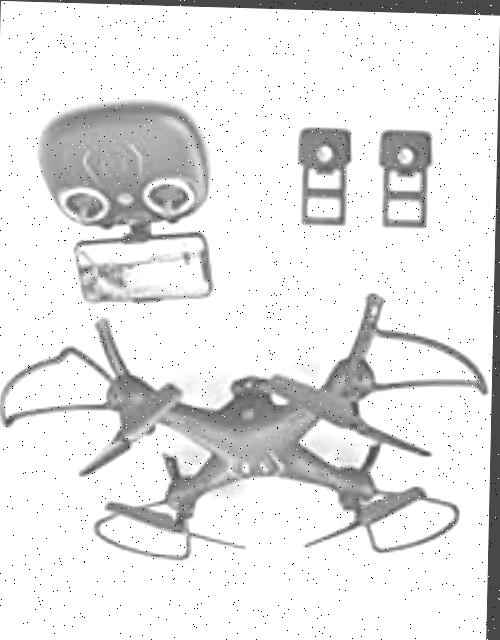drone: (0, 274, 495, 584)
